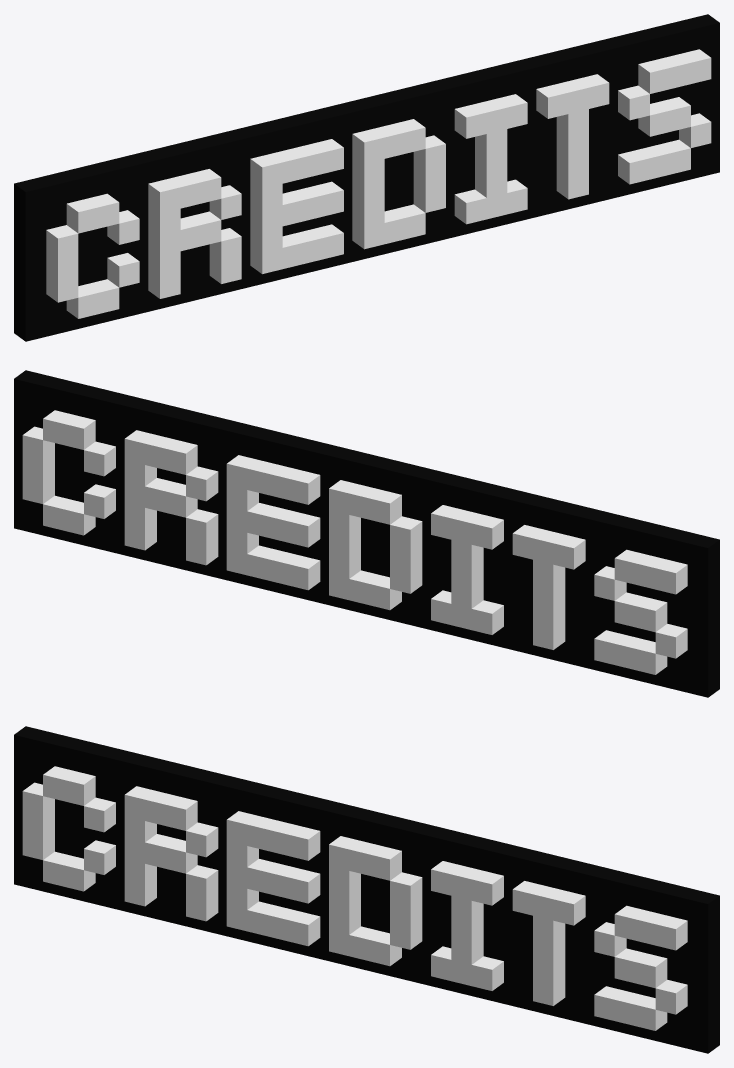
The model's file is credits.obj.
3 renders of one model, top to bottom at view 1: azimuth 30°, elevation 25°; view 2: azimuth 150°, elevation 25°; view 3: azimuth 330°, elevation 25°, orthographic.
Visible parts, largest first — view 1: credits; view 2: credits; view 3: credits.
Boxes of the visible parts, x1,y1,x2,y2 form: credits: [14, 14, 719, 341]; credits: [14, 370, 719, 697]; credits: [14, 726, 719, 1053].
Size of the model in its own units: 34 by 7 by 3.
Materials: 1 (1 with a texture image).
